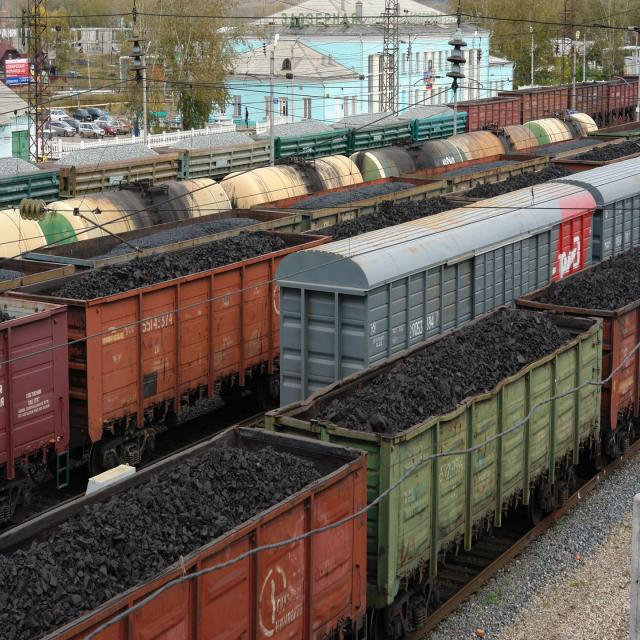boxcar: (268, 174, 602, 422), (561, 149, 640, 266)
gondola: (261, 276, 612, 617), (0, 417, 373, 640), (17, 208, 328, 464), (516, 240, 640, 453), (0, 279, 77, 514), (54, 125, 181, 202), (164, 120, 275, 184), (259, 112, 351, 165), (0, 145, 62, 213), (337, 104, 414, 154), (448, 89, 524, 135), (498, 80, 571, 127), (399, 97, 465, 144), (565, 75, 610, 115), (605, 70, 640, 120)
tank: (38, 166, 232, 252), (221, 145, 365, 215), (344, 124, 459, 189), (450, 114, 537, 164), (528, 107, 597, 147)
